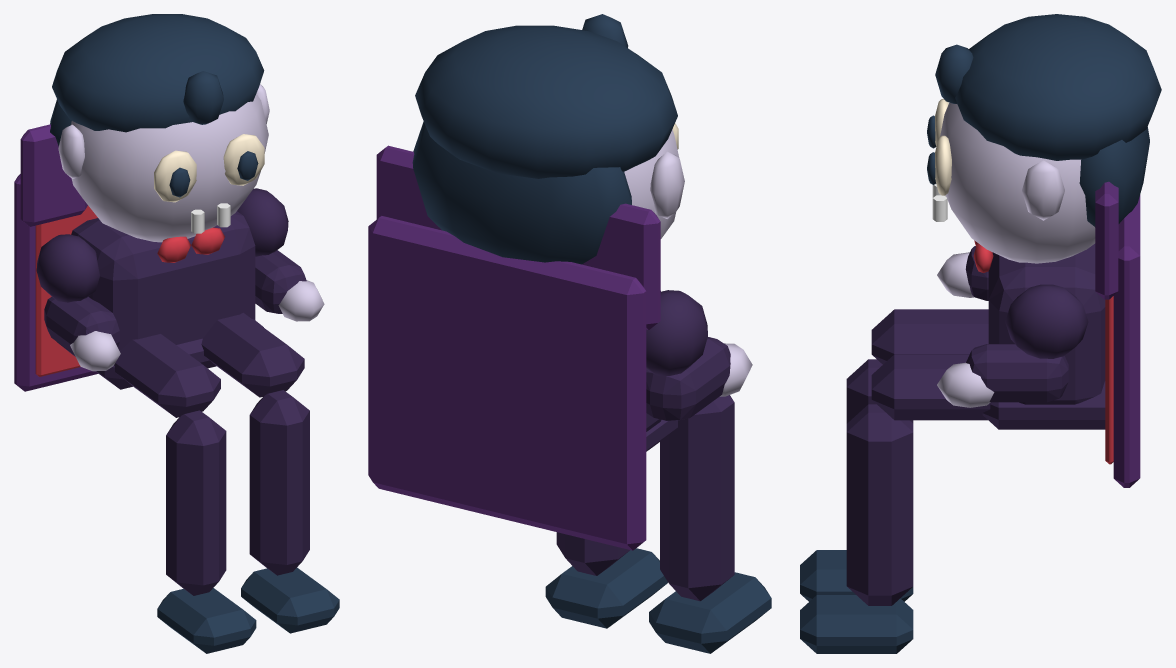
File: vampire-passenger.glb
The picture shows the model from 3 angles, left to right: view 1: azimuth 30°, elevation 25°; view 2: azimuth 150°, elevation 25°; view 3: azimuth 270°, elevation 25°; orthographic projection. The views are drawn at different scales.
Parts seen in each view (by area): view 1: vampire-passenger; view 2: vampire-passenger; view 3: vampire-passenger.
Boxes of the visible parts, x1,y1,x2,y2 form: vampire-passenger: [14, 14, 339, 653]; vampire-passenger: [368, 14, 771, 653]; vampire-passenger: [800, 14, 1161, 653].
Bounding box in the file's own units: 0.4833 × 1 × 0.5578.
